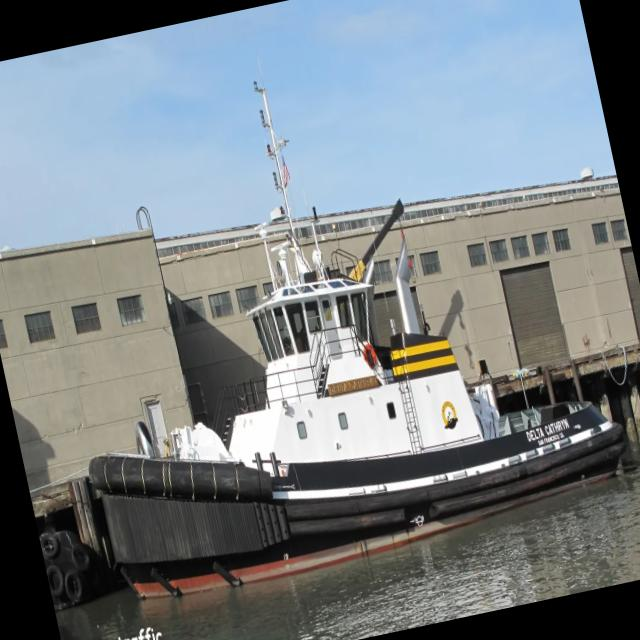Tug: (88, 67, 623, 599)
